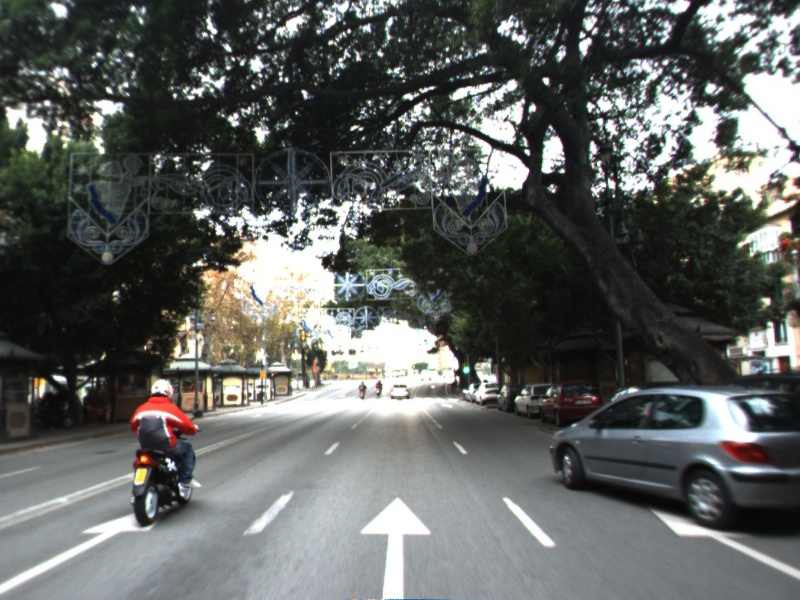STRAIGHT: (1, 506, 167, 593), (642, 502, 800, 581), (356, 492, 437, 600)
